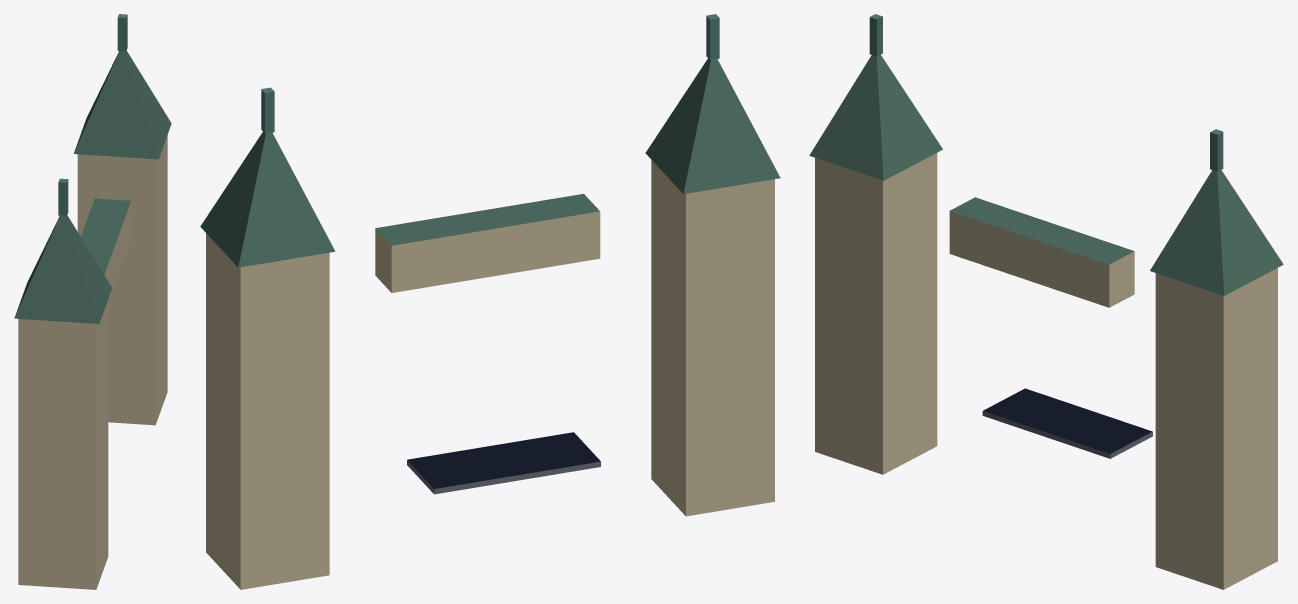
File: casino.glb
3 views of the same model, side by side, from view 1: azimuth 30°, elevation 25°; view 2: azimuth 150°, elevation 25°; view 3: azimuth 270°, elevation 25° (orthographic). The views are drawn at different scales.
Visible parts, largest first — view 1: chunk_0_0; view 2: chunk_0_0; view 3: chunk_0_0.
Boxes of the visible parts, left/top/right/bottom form: chunk_0_0: left=14, top=14, right=171, bottom=589; chunk_0_0: left=200, top=14, right=780, bottom=589; chunk_0_0: left=809, top=14, right=1283, bottom=589.
Bounding box in the file's own units: 29.84 × 35 × 34.84.
